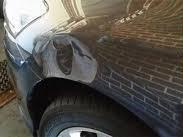dent: (26, 29, 102, 88)
